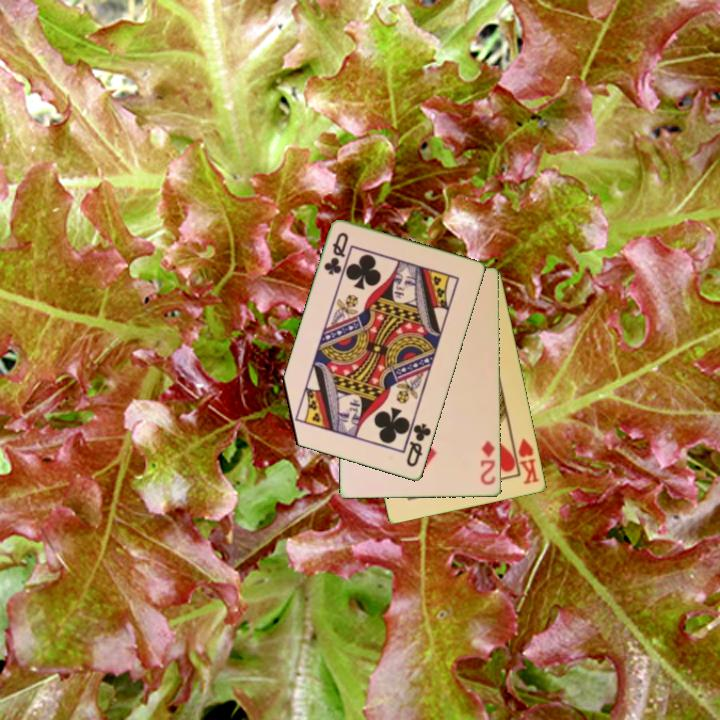2d: (477, 437, 498, 488)
Kh: (509, 434, 543, 487)
Qc: (402, 416, 434, 470), (320, 229, 352, 278)
